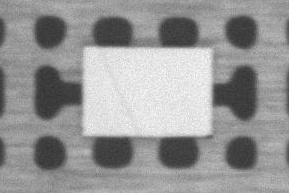DIE_CRACK: (100, 49, 141, 134)
